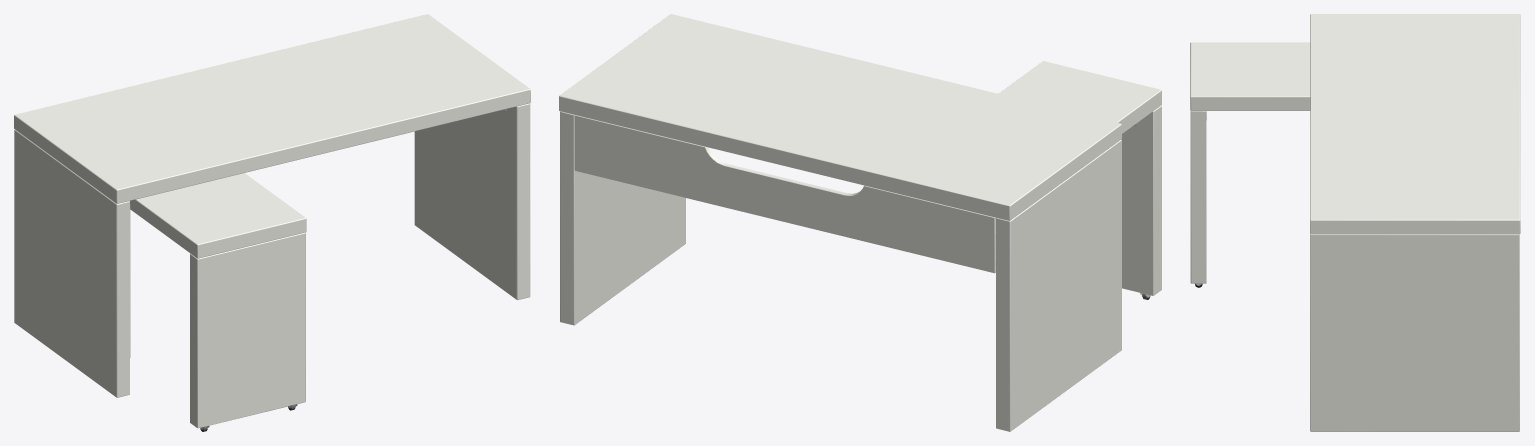
The model's file is malm_biurko_z_wysuwanym_panelem_70214192.glb.
3 views of the same model, side by side, from view 1: azimuth 30°, elevation 25°; view 2: azimuth 150°, elevation 25°; view 3: azimuth 270°, elevation 25° (orthographic). The views are drawn at different scales.
Visible parts, largest first — view 1: malm_biurko_z_wysuwanym_panelem_70214192; view 2: malm_biurko_z_wysuwanym_panelem_70214192; view 3: malm_biurko_z_wysuwanym_panelem_70214192.
Part boxes in pixels (x1,y1,x2,y2): malm_biurko_z_wysuwanym_panelem_70214192: (14, 14, 530, 431); malm_biurko_z_wysuwanym_panelem_70214192: (559, 14, 1161, 431); malm_biurko_z_wysuwanym_panelem_70214192: (1190, 14, 1520, 431).
Bounding box in the file's own units: 1.51 × 0.73 × 1.02.
1 material, 1 textured.
